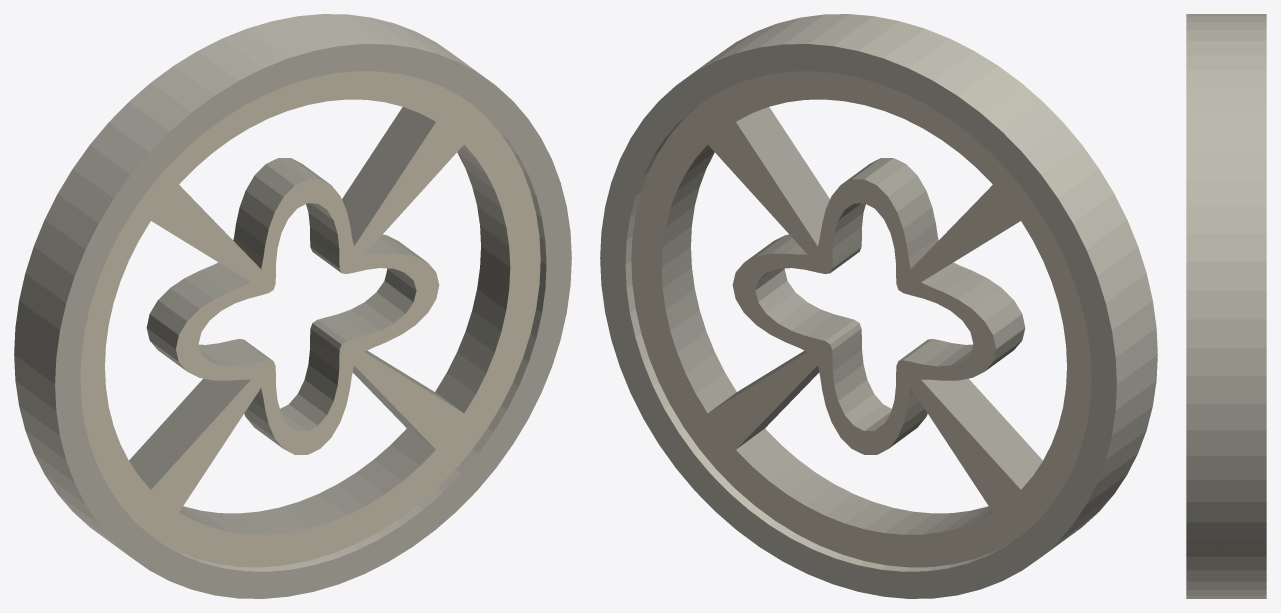
3 renders of one model, left to right at view 1: azimuth 30°, elevation 25°; view 2: azimuth 150°, elevation 25°; view 3: azimuth 270°, elevation 25°, orthographic.
Parts seen in each view (by area): view 1: WholeQuatrefoilAndFourPetalStoneTracery; view 2: WholeQuatrefoilAndFourPetalStoneTracery; view 3: WholeQuatrefoilAndFourPetalStoneTracery.
Boxes of the visible parts, x1,y1,x2,y2 form: WholeQuatrefoilAndFourPetalStoneTracery: (14, 14, 571, 598); WholeQuatrefoilAndFourPetalStoneTracery: (600, 14, 1157, 598); WholeQuatrefoilAndFourPetalStoneTracery: (1186, 14, 1266, 598).
Size of the model in its own units: 2.04 by 2.04 by 0.28.
